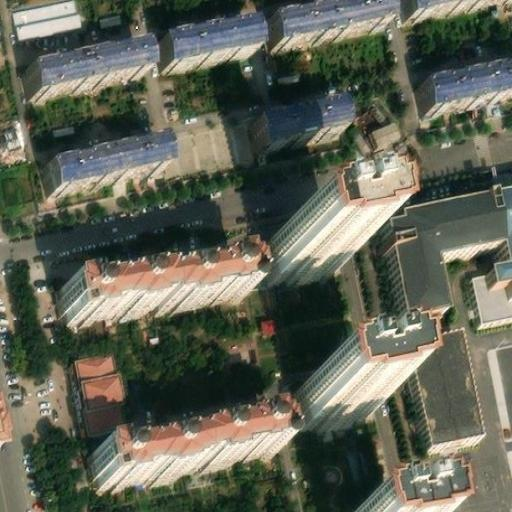building: (374, 194, 512, 326), (62, 322, 138, 512), (97, 424, 275, 490), (58, 272, 245, 326), (405, 344, 479, 454), (41, 146, 160, 199), (23, 51, 140, 102), (261, 1, 380, 51), (152, 27, 252, 76), (416, 71, 512, 118), (295, 365, 372, 419), (261, 226, 338, 280), (248, 110, 340, 155), (396, 0, 512, 27), (470, 274, 512, 324), (367, 126, 403, 158), (0, 126, 23, 162)
